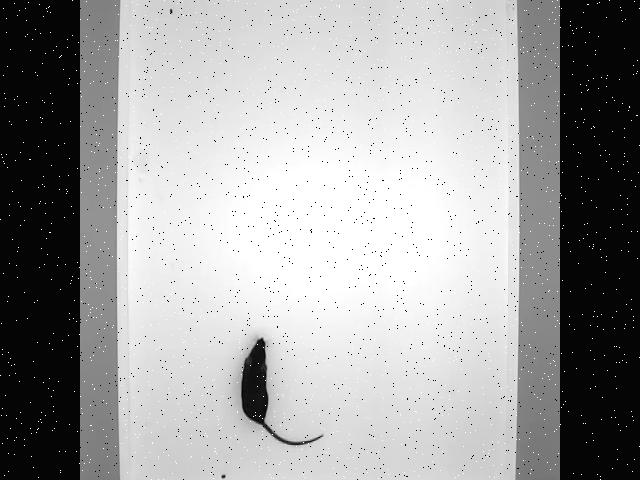Tikus: (237, 332, 323, 448)
